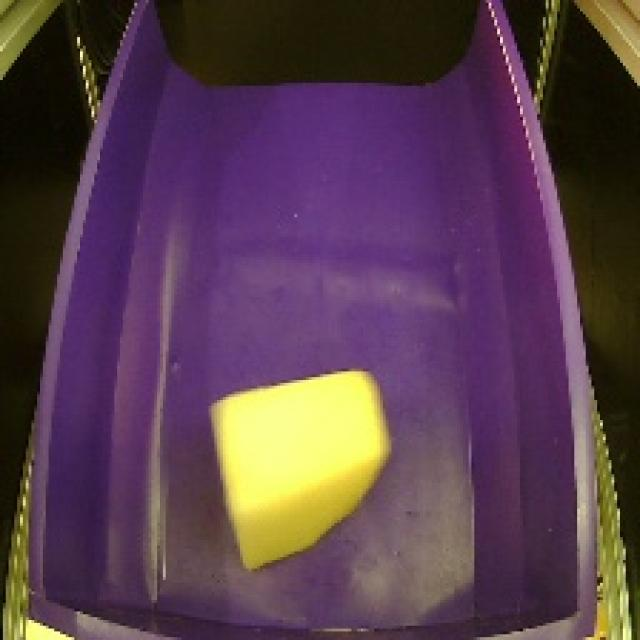potato: (206, 361, 394, 575)
